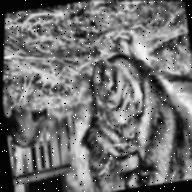boar: (50, 26, 192, 192), (3, 97, 53, 151)
